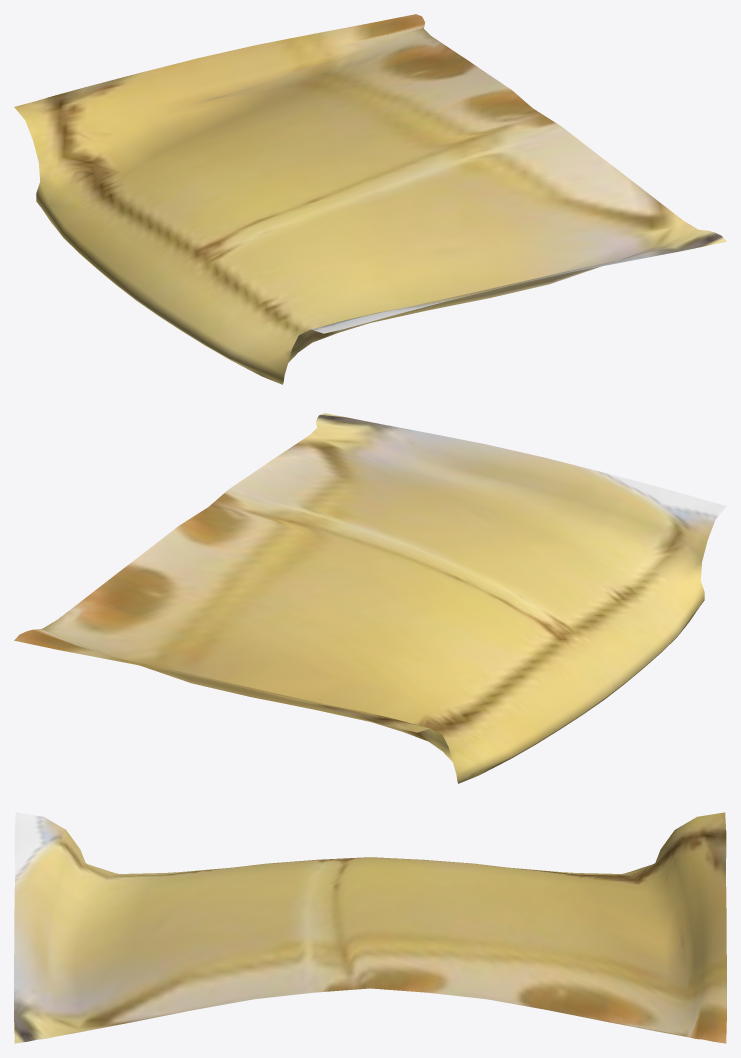
File: cofre_t.obj
3 renders of one model, top to bottom at view 1: azimuth 30°, elevation 25°; view 2: azimuth 150°, elevation 25°; view 3: azimuth 270°, elevation 25°, orthographic. The views are drawn at different scales.
Parts seen in each view (by area): view 1: cofre; view 2: cofre; view 3: cofre.
Part boxes in pixels (left/top/right/bottom): cofre: left=14, top=14, right=726, bottom=384; cofre: left=14, top=413, right=726, bottom=783; cofre: left=14, top=812, right=726, bottom=1043.
Bounding box in the file's own units: 0.9075 × 0.1974 × 1.12.
1 material, 1 textured.
